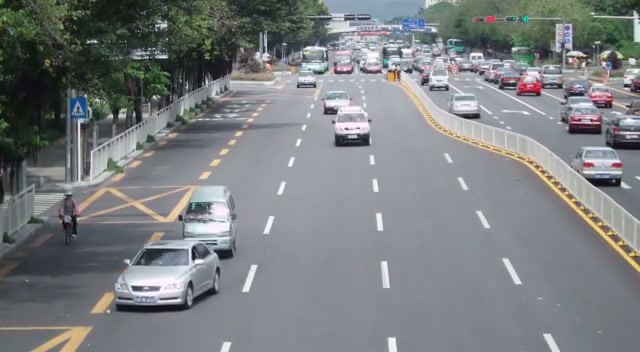bus: (301, 46, 330, 75)
car: (113, 238, 222, 310), (179, 185, 238, 259), (571, 145, 623, 186), (332, 108, 371, 146), (606, 115, 640, 149), (567, 104, 603, 134), (559, 96, 595, 122), (447, 92, 480, 119), (321, 90, 352, 115), (587, 86, 614, 108), (516, 74, 542, 96), (428, 69, 449, 90), (566, 80, 590, 97), (296, 69, 317, 88), (623, 69, 640, 91), (498, 74, 519, 89)
motorcycle: (60, 212, 78, 245)
pedestrian: (58, 191, 79, 235)
truck: (333, 50, 354, 74)
